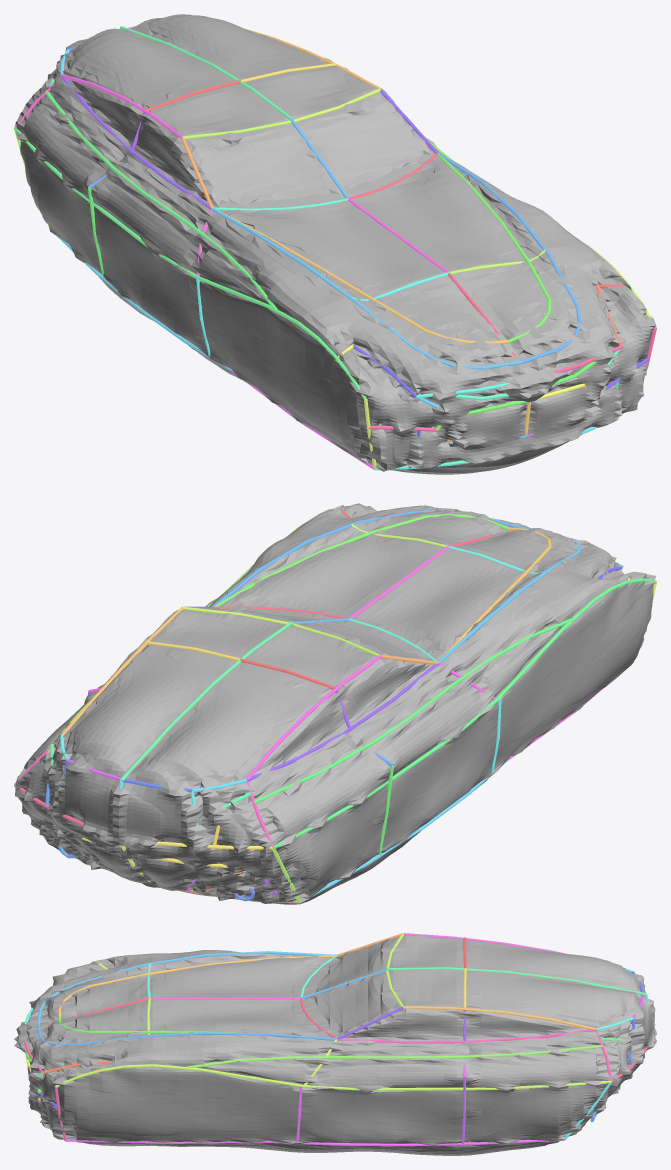
The model's file is ils_car1.gltf.
The picture shows the model from 3 angles, top to bottom: view 1: azimuth 30°, elevation 25°; view 2: azimuth 150°, elevation 25°; view 3: azimuth 270°, elevation 25°; orthographic projection. The views are drawn at different scales.
Size of the model in its own units: 0.3864 by 0.2624 by 0.9257.
